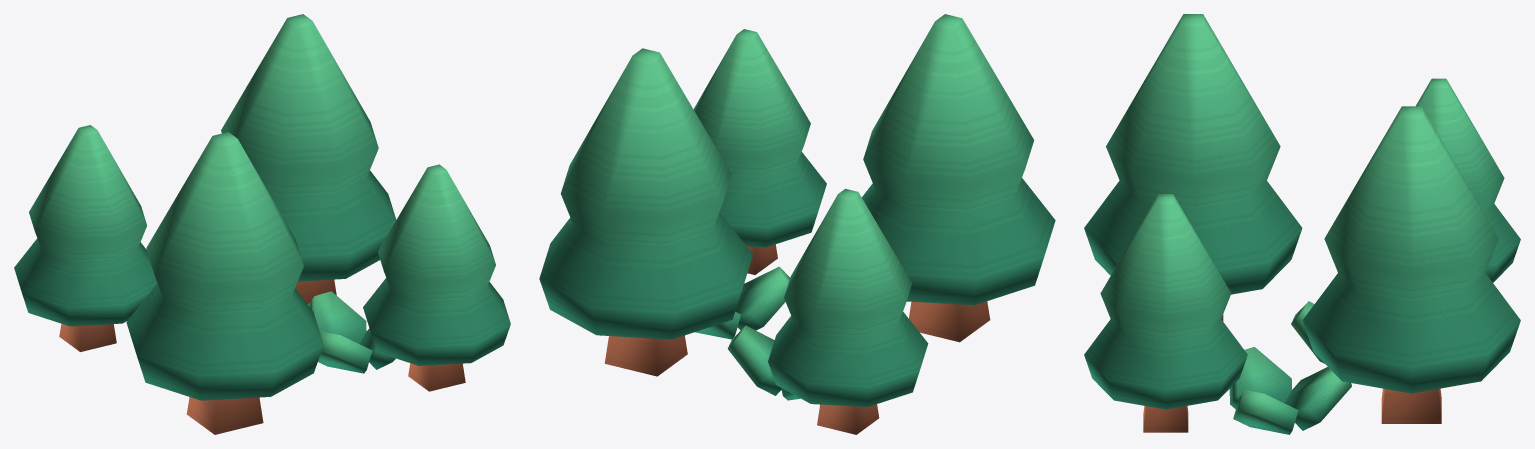
File: tree_pine_e.glb
3 renders of one model, left to right at view 1: azimuth 30°, elevation 25°; view 2: azimuth 150°, elevation 25°; view 3: azimuth 270°, elevation 25°, orthographic. The views are drawn at different scales.
Visible parts, largest first — view 1: tree_pine__Mesh_006; view 2: tree_pine__Mesh_006; view 3: tree_pine__Mesh_006.
Part boxes in pixels (<box>): tree_pine__Mesh_006: <box>14,14,510,434</box>; tree_pine__Mesh_006: <box>539,14,1055,434</box>; tree_pine__Mesh_006: <box>1084,14,1520,434</box>.
Size of the model in its own units: 2.36 by 1.88 by 2.36.
Materials: 1 (1 with a texture image).
